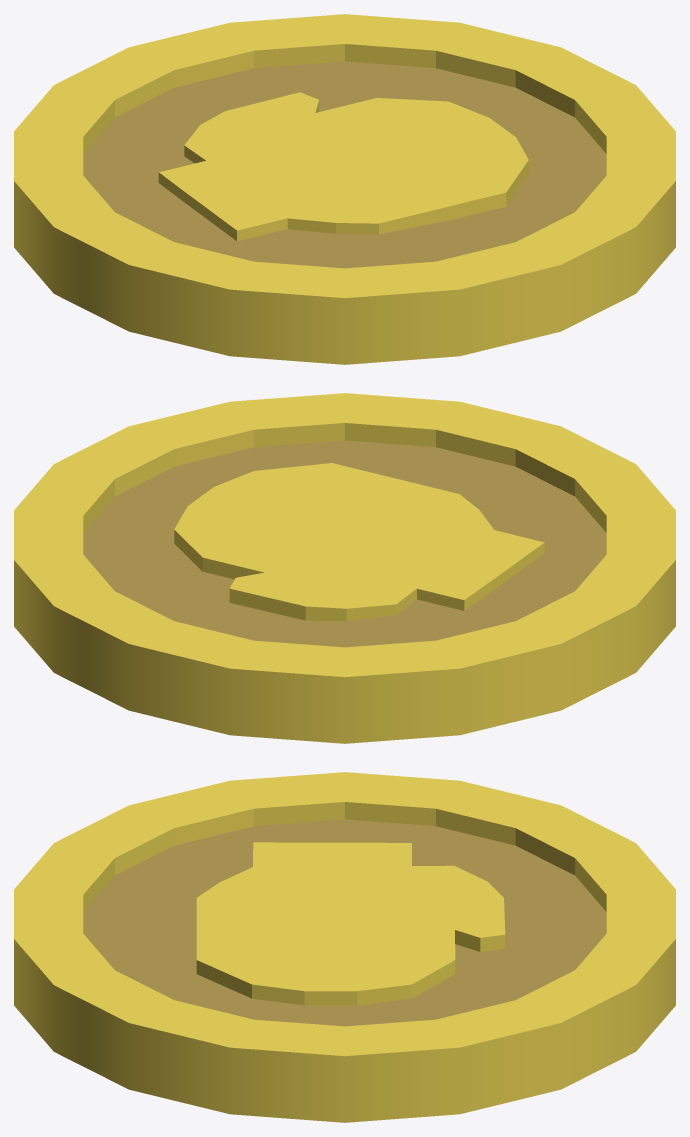
The model's file is coin.fbx.
The picture shows the model from 3 angles, top to bottom: view 1: azimuth 30°, elevation 25°; view 2: azimuth 150°, elevation 25°; view 3: azimuth 270°, elevation 25°; orthographic projection.
Visible parts, largest first — view 1: Object001; view 2: Object001; view 3: Object001.
Boxes of the visible parts, x1,y1,x2,y2 form: Object001: (14,14,675,364); Object001: (14,393,675,743); Object001: (14,772,675,1122).
Size of the model in its own units: 7.81 by 0.8546 by 7.69.
